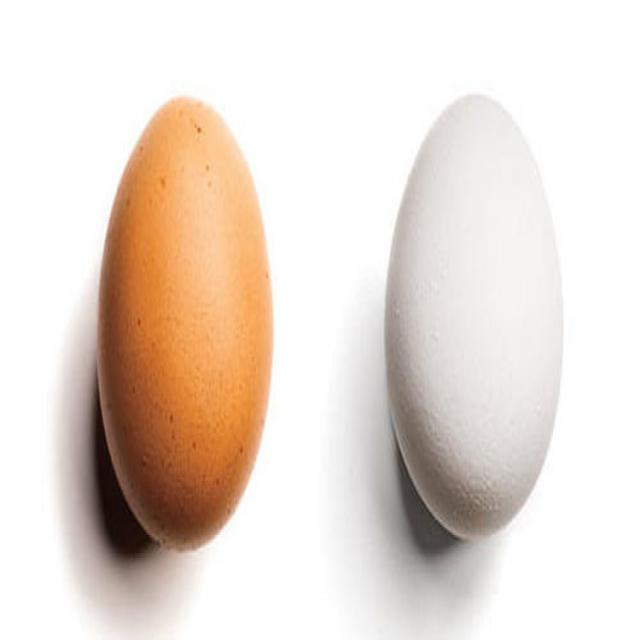egg: (97, 97, 273, 549), (386, 94, 564, 538)
